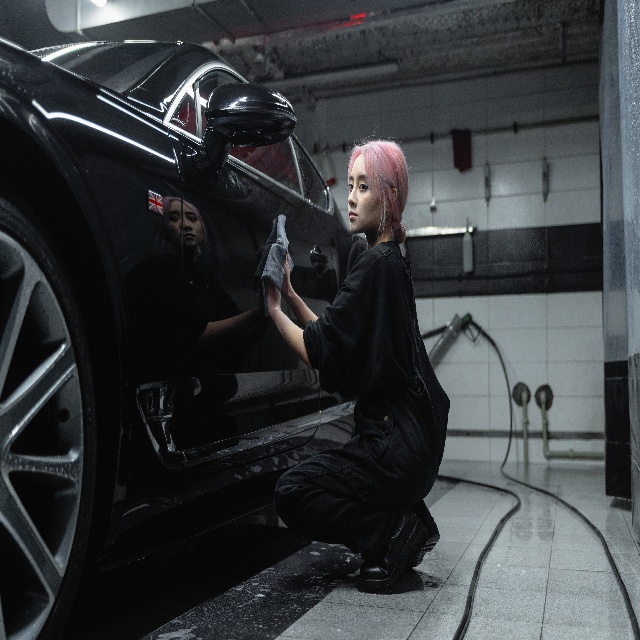Sin_guantes: (265, 275, 282, 317), (281, 246, 291, 297)
